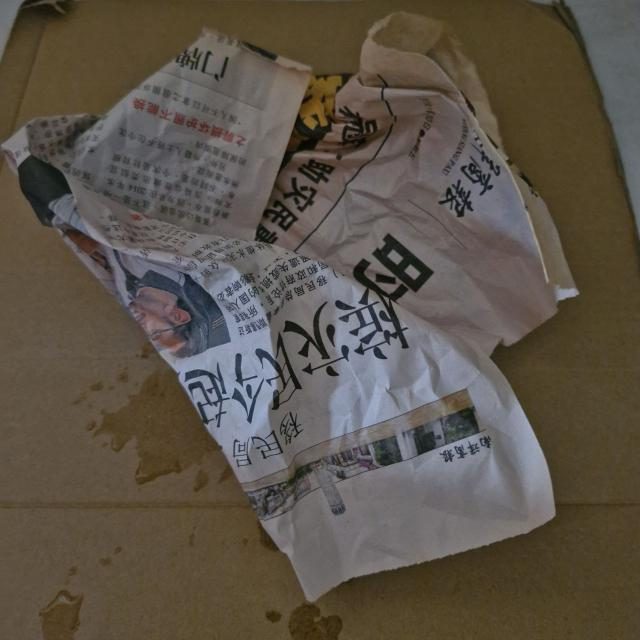paper: (66, 27, 584, 580)
